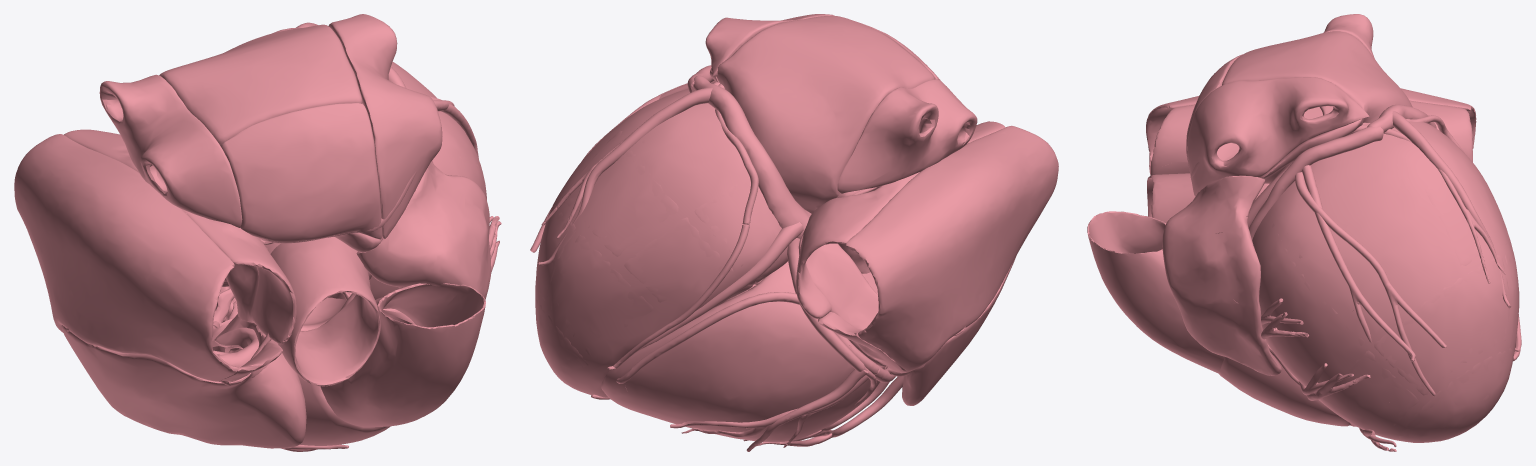
File: heart.glb
3 renders of one model, left to right at view 1: azimuth 30°, elevation 25°; view 2: azimuth 150°, elevation 25°; view 3: azimuth 270°, elevation 25°, orthographic. The views are drawn at different scales.
Parts seen in each view (by area): view 1: Lateral wall proper of right atrium [MM560], Superior wall of left atrium [MM460], Wall of right auricle proper [MM461], Pulmonary trunk proper [MM607], Posterior wall of left atrium [MM633], Septal wall of left atrium [MM458], Wall of left auricle [MM459], Ascending aorta proper [MM506], Lateral wall of left atrium [MM456], Septal wall of right atrium [MM590], Free wall of left ventricle [MM474], Wall of outflow part of right ventricle [MM538] (+7 smaller); view 2: Free wall of left ventricle [MM474], Lateral wall proper of right atrium [MM560], Wall of inflow part of right ventricle [MM598], Posterior wall of left atrium [MM633], Septal wall of left atrium [MM458], Septal wall of right atrium [MM590], Coronary sinus [MM634], Valve of inferior vena cava [MM463], Wall of right auricle proper [MM461], Coronary sinus [MM638], Lateral wall of left atrium [MM456], Coronary sinus [MM449] (+15 smaller); view 3: Free wall of left ventricle [MM474], Wall of left auricle [MM459], Lateral wall of left atrium [MM456], Pulmonary trunk proper [MM607], Posterior wall of left atrium [MM633], Great cardiac vein [MM447], Septal wall of right atrium [MM590], Wall of outflow part of right ventricle [MM538], Left marginal artery [MM610], Great cardiac vein [MM448], Ascending aorta proper [MM506], Lateral wall proper of right atrium [MM560] (+12 smaller).
Boxes of the visible parts, bbox=[...] form: Lateral wall proper of right atrium [MM560]: bbox=[14, 134, 238, 381]; Superior wall of left atrium [MM460]: bbox=[221, 103, 381, 242]; Wall of right auricle proper [MM461]: bbox=[61, 325, 306, 448]; Pulmonary trunk proper [MM607]: bbox=[320, 283, 485, 427]; Posterior wall of left atrium [MM633]: bbox=[159, 24, 362, 146]; Septal wall of left atrium [MM458]: bbox=[99, 74, 242, 227]; Wall of left auricle [MM459]: bbox=[356, 161, 491, 299]; Ascending aorta proper [MM506]: bbox=[270, 236, 380, 386]; Lateral wall of left atrium [MM456]: bbox=[328, 14, 442, 238]; Septal wall of right atrium [MM590]: bbox=[64, 129, 296, 344]; Free wall of left ventricle [MM474]: bbox=[369, 62, 486, 299]; Wall of outflow part of right ventricle [MM538]: bbox=[271, 308, 415, 445]; Free wall of left ventricle [MM474]: bbox=[535, 83, 787, 397]; Lateral wall proper of right atrium [MM560]: bbox=[846, 125, 1058, 371]; Wall of inflow part of right ventricle [MM598]: bbox=[601, 261, 887, 442]; Posterior wall of left atrium [MM633]: bbox=[716, 15, 934, 213]; Septal wall of left atrium [MM458]: bbox=[837, 79, 977, 193]; Septal wall of right atrium [MM590]: bbox=[796, 121, 1005, 318]; Coronary sinus [MM634]: bbox=[693, 75, 811, 239]; Valve of inferior vena cava [MM463]: bbox=[798, 215, 878, 329]; Wall of right auricle proper [MM461]: bbox=[902, 257, 1015, 405]; Coronary sinus [MM638]: bbox=[538, 87, 712, 265]; Lateral wall of left atrium [MM456]: bbox=[705, 14, 834, 76]; Coronary sinus [MM449]: bbox=[637, 222, 803, 351]; Free wall of left ventricle [MM474]: bbox=[1252, 122, 1519, 442]; Wall of left auricle [MM459]: bbox=[1162, 175, 1281, 375]; Lateral wall of left atrium [MM456]: bbox=[1187, 77, 1369, 196]; Pulmonary trunk proper [MM607]: bbox=[1087, 211, 1224, 373]; Posterior wall of left atrium [MM633]: bbox=[1222, 31, 1412, 122]; Great cardiac vein [MM447]: bbox=[1248, 126, 1396, 451]; Septal wall of right atrium [MM590]: bbox=[1150, 100, 1472, 175]; Wall of outflow part of right ventricle [MM538]: bbox=[1218, 357, 1350, 426]; Left marginal artery [MM610]: bbox=[1295, 172, 1446, 395]; Great cardiac vein [MM448]: bbox=[1302, 165, 1415, 361]; Ascending aorta proper [MM506]: bbox=[1147, 173, 1195, 223]; Lateral wall proper of right atrium [MM560]: bbox=[1146, 88, 1476, 175].
Bounding box in the file's own units: 116 × 107 × 118.
